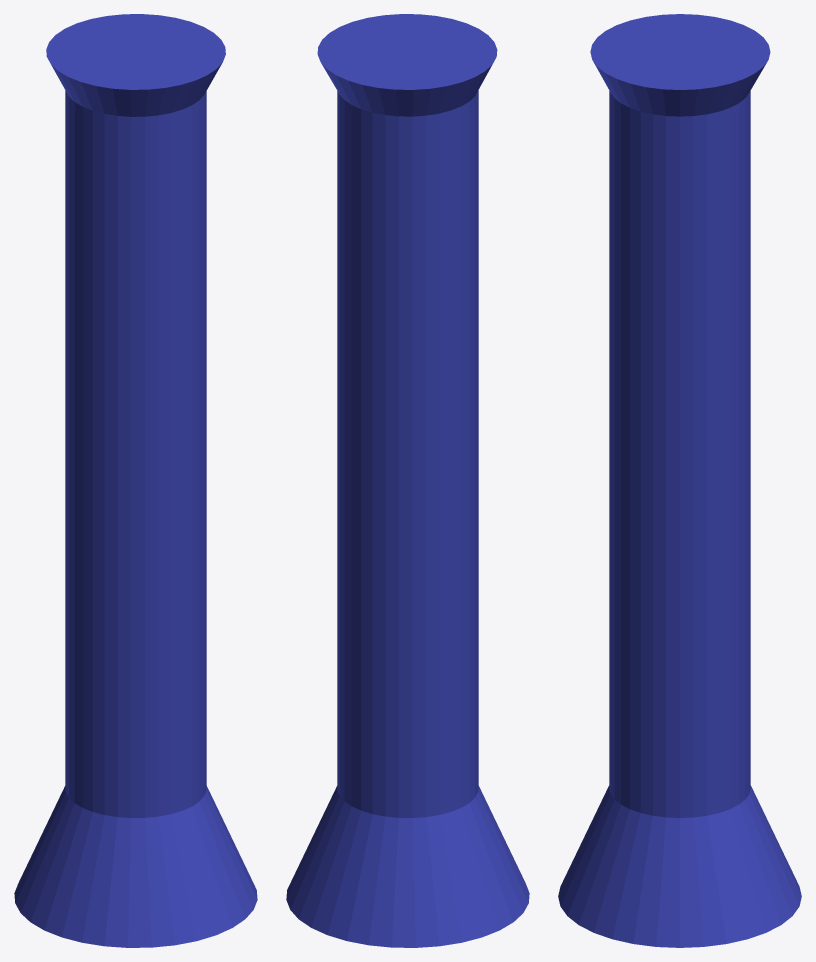
The model's file is graduatedcylinder.fbx.
3 renders of one model, left to right at view 1: azimuth 30°, elevation 25°; view 2: azimuth 150°, elevation 25°; view 3: azimuth 270°, elevation 25°, orthographic.
Visible parts, largest first — view 1: Cylinder; view 2: Cylinder; view 3: Cylinder.
Boxes of the visible parts, x1,y1,x2,y2 form: Cylinder: [14, 14, 257, 947]; Cylinder: [286, 14, 529, 947]; Cylinder: [558, 14, 801, 947].
Size of the model in its own units: 66.32 by 254 by 66.32.
